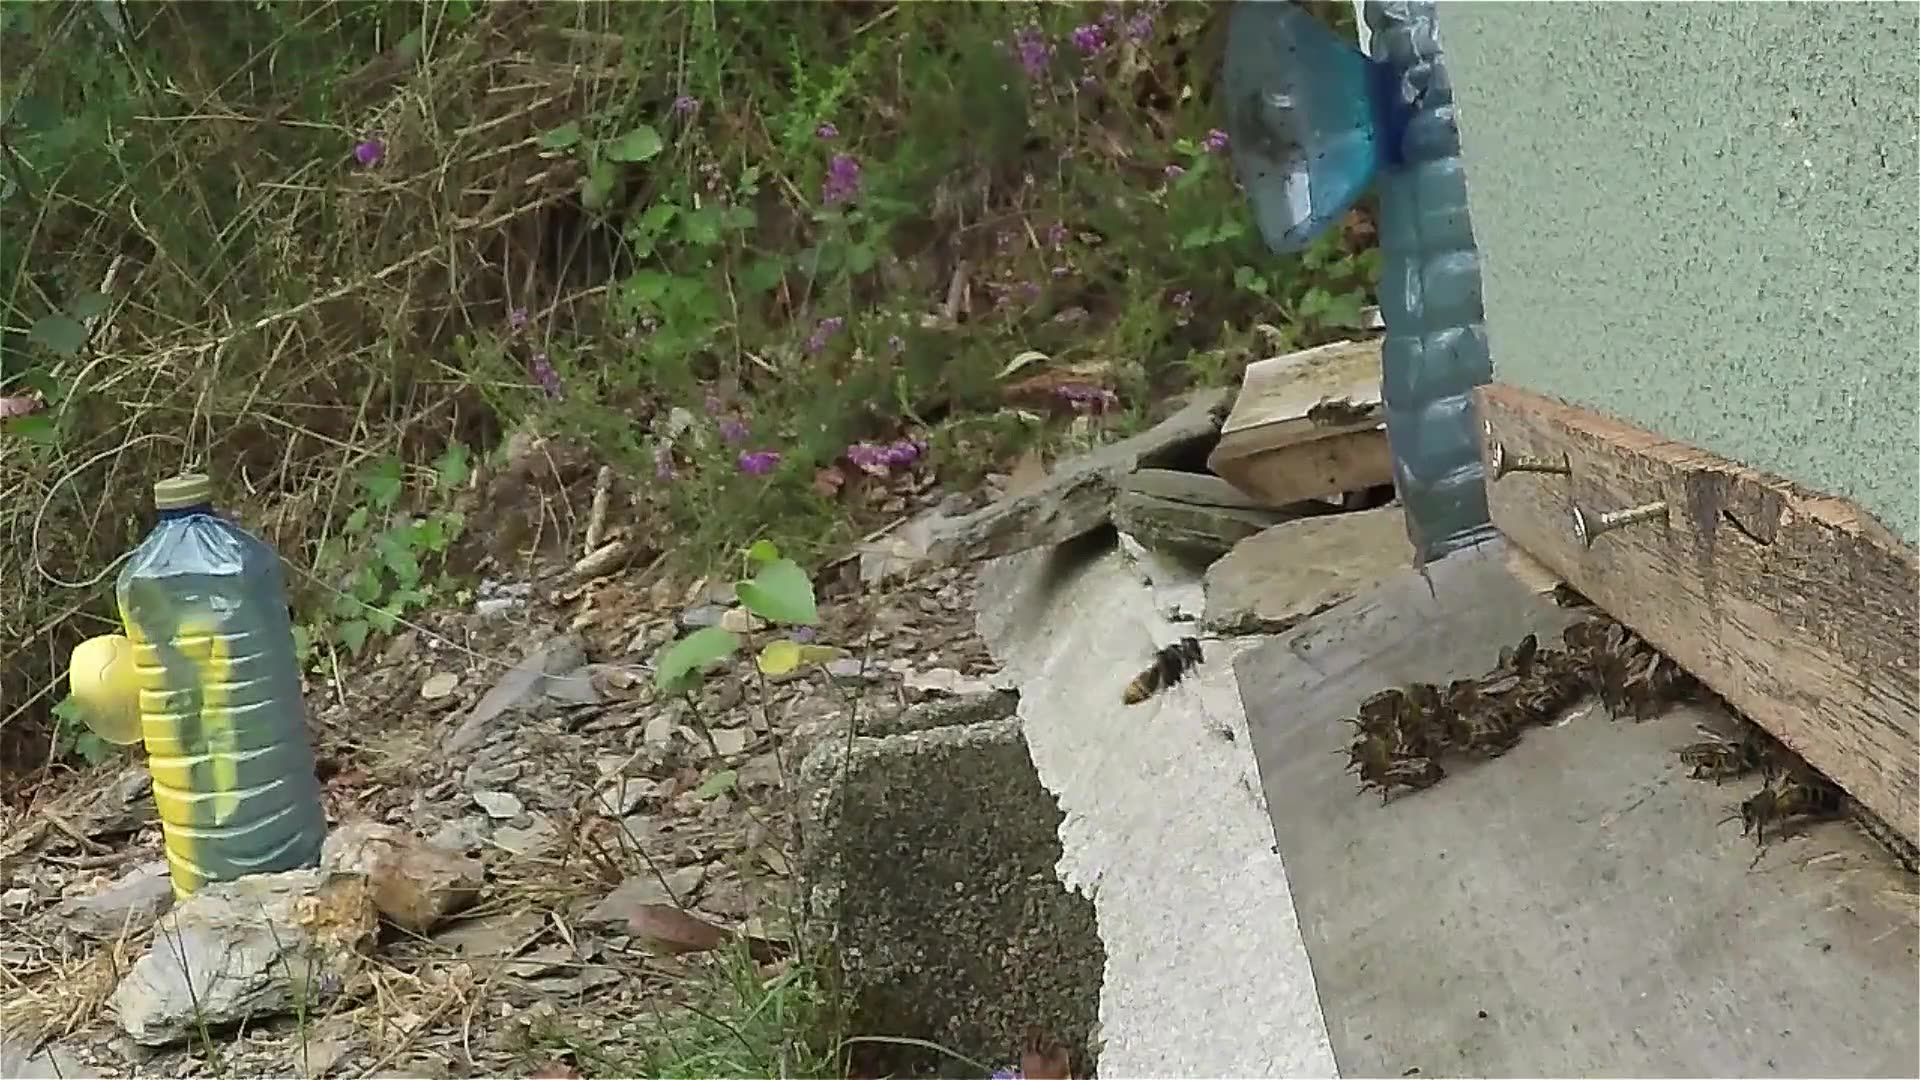bee: (1520, 580, 1701, 735), (1346, 674, 1531, 800), (1731, 760, 1853, 852), (1662, 709, 1783, 789)
hornet: (1112, 622, 1215, 709)
